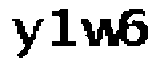1: (46, 7, 78, 51)
6: (119, 7, 149, 49)
w: (78, 17, 121, 48)
y: (8, 13, 43, 60)
